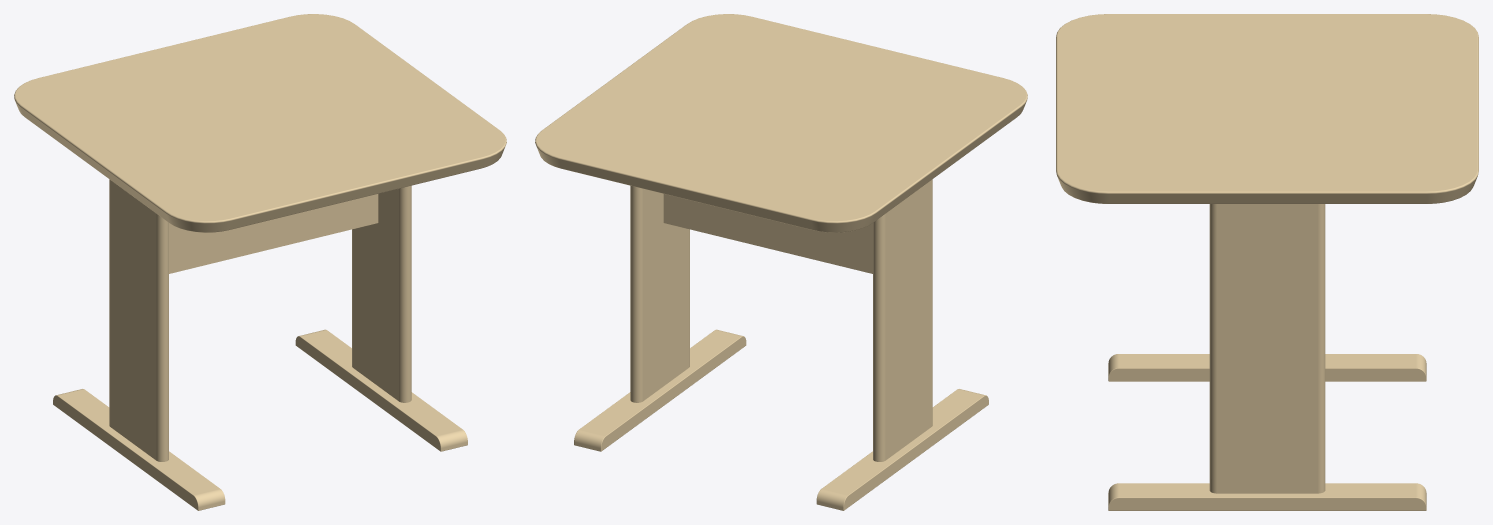
The model's file is 057_テーブル.glb.
3 views of the same model, side by side, from view 1: azimuth 30°, elevation 25°; view 2: azimuth 150°, elevation 25°; view 3: azimuth 270°, elevation 25° (orthographic). The views are drawn at different scales.
Visible parts, largest first — view 1: Body; view 2: Body; view 3: Body.
Part boxes in pixels (x1,y1,x2,y2): Body: (14,14,506,510); Body: (535,14,1027,510); Body: (1056,14,1478,510).
Bounding box in the file's own units: 0.7974 × 0.7 × 0.7974.
